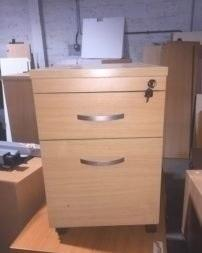cabinet_door: (44, 139, 160, 225), (37, 94, 164, 140)
handle: (75, 110, 127, 125), (79, 155, 127, 169)
